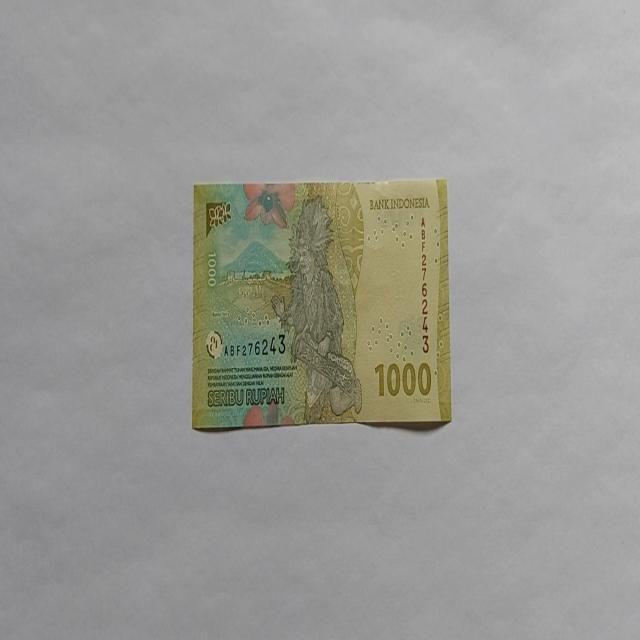seribu rupiah kertas: (191, 177, 452, 430)
